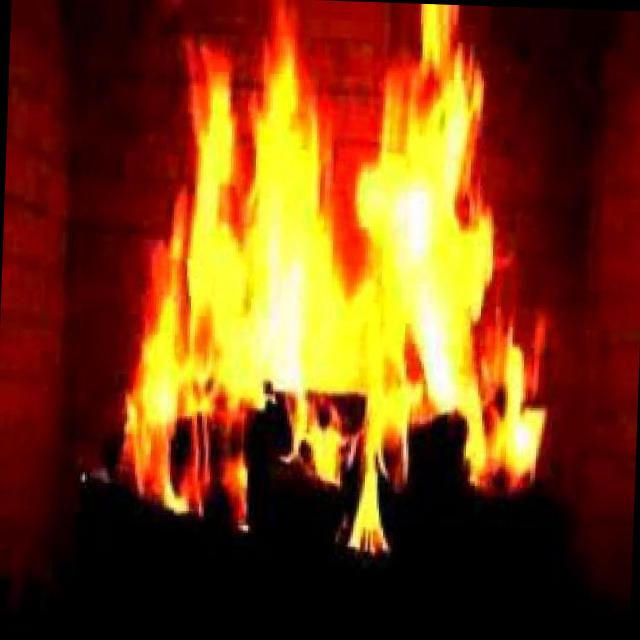Fire: (87, 0, 574, 566)
